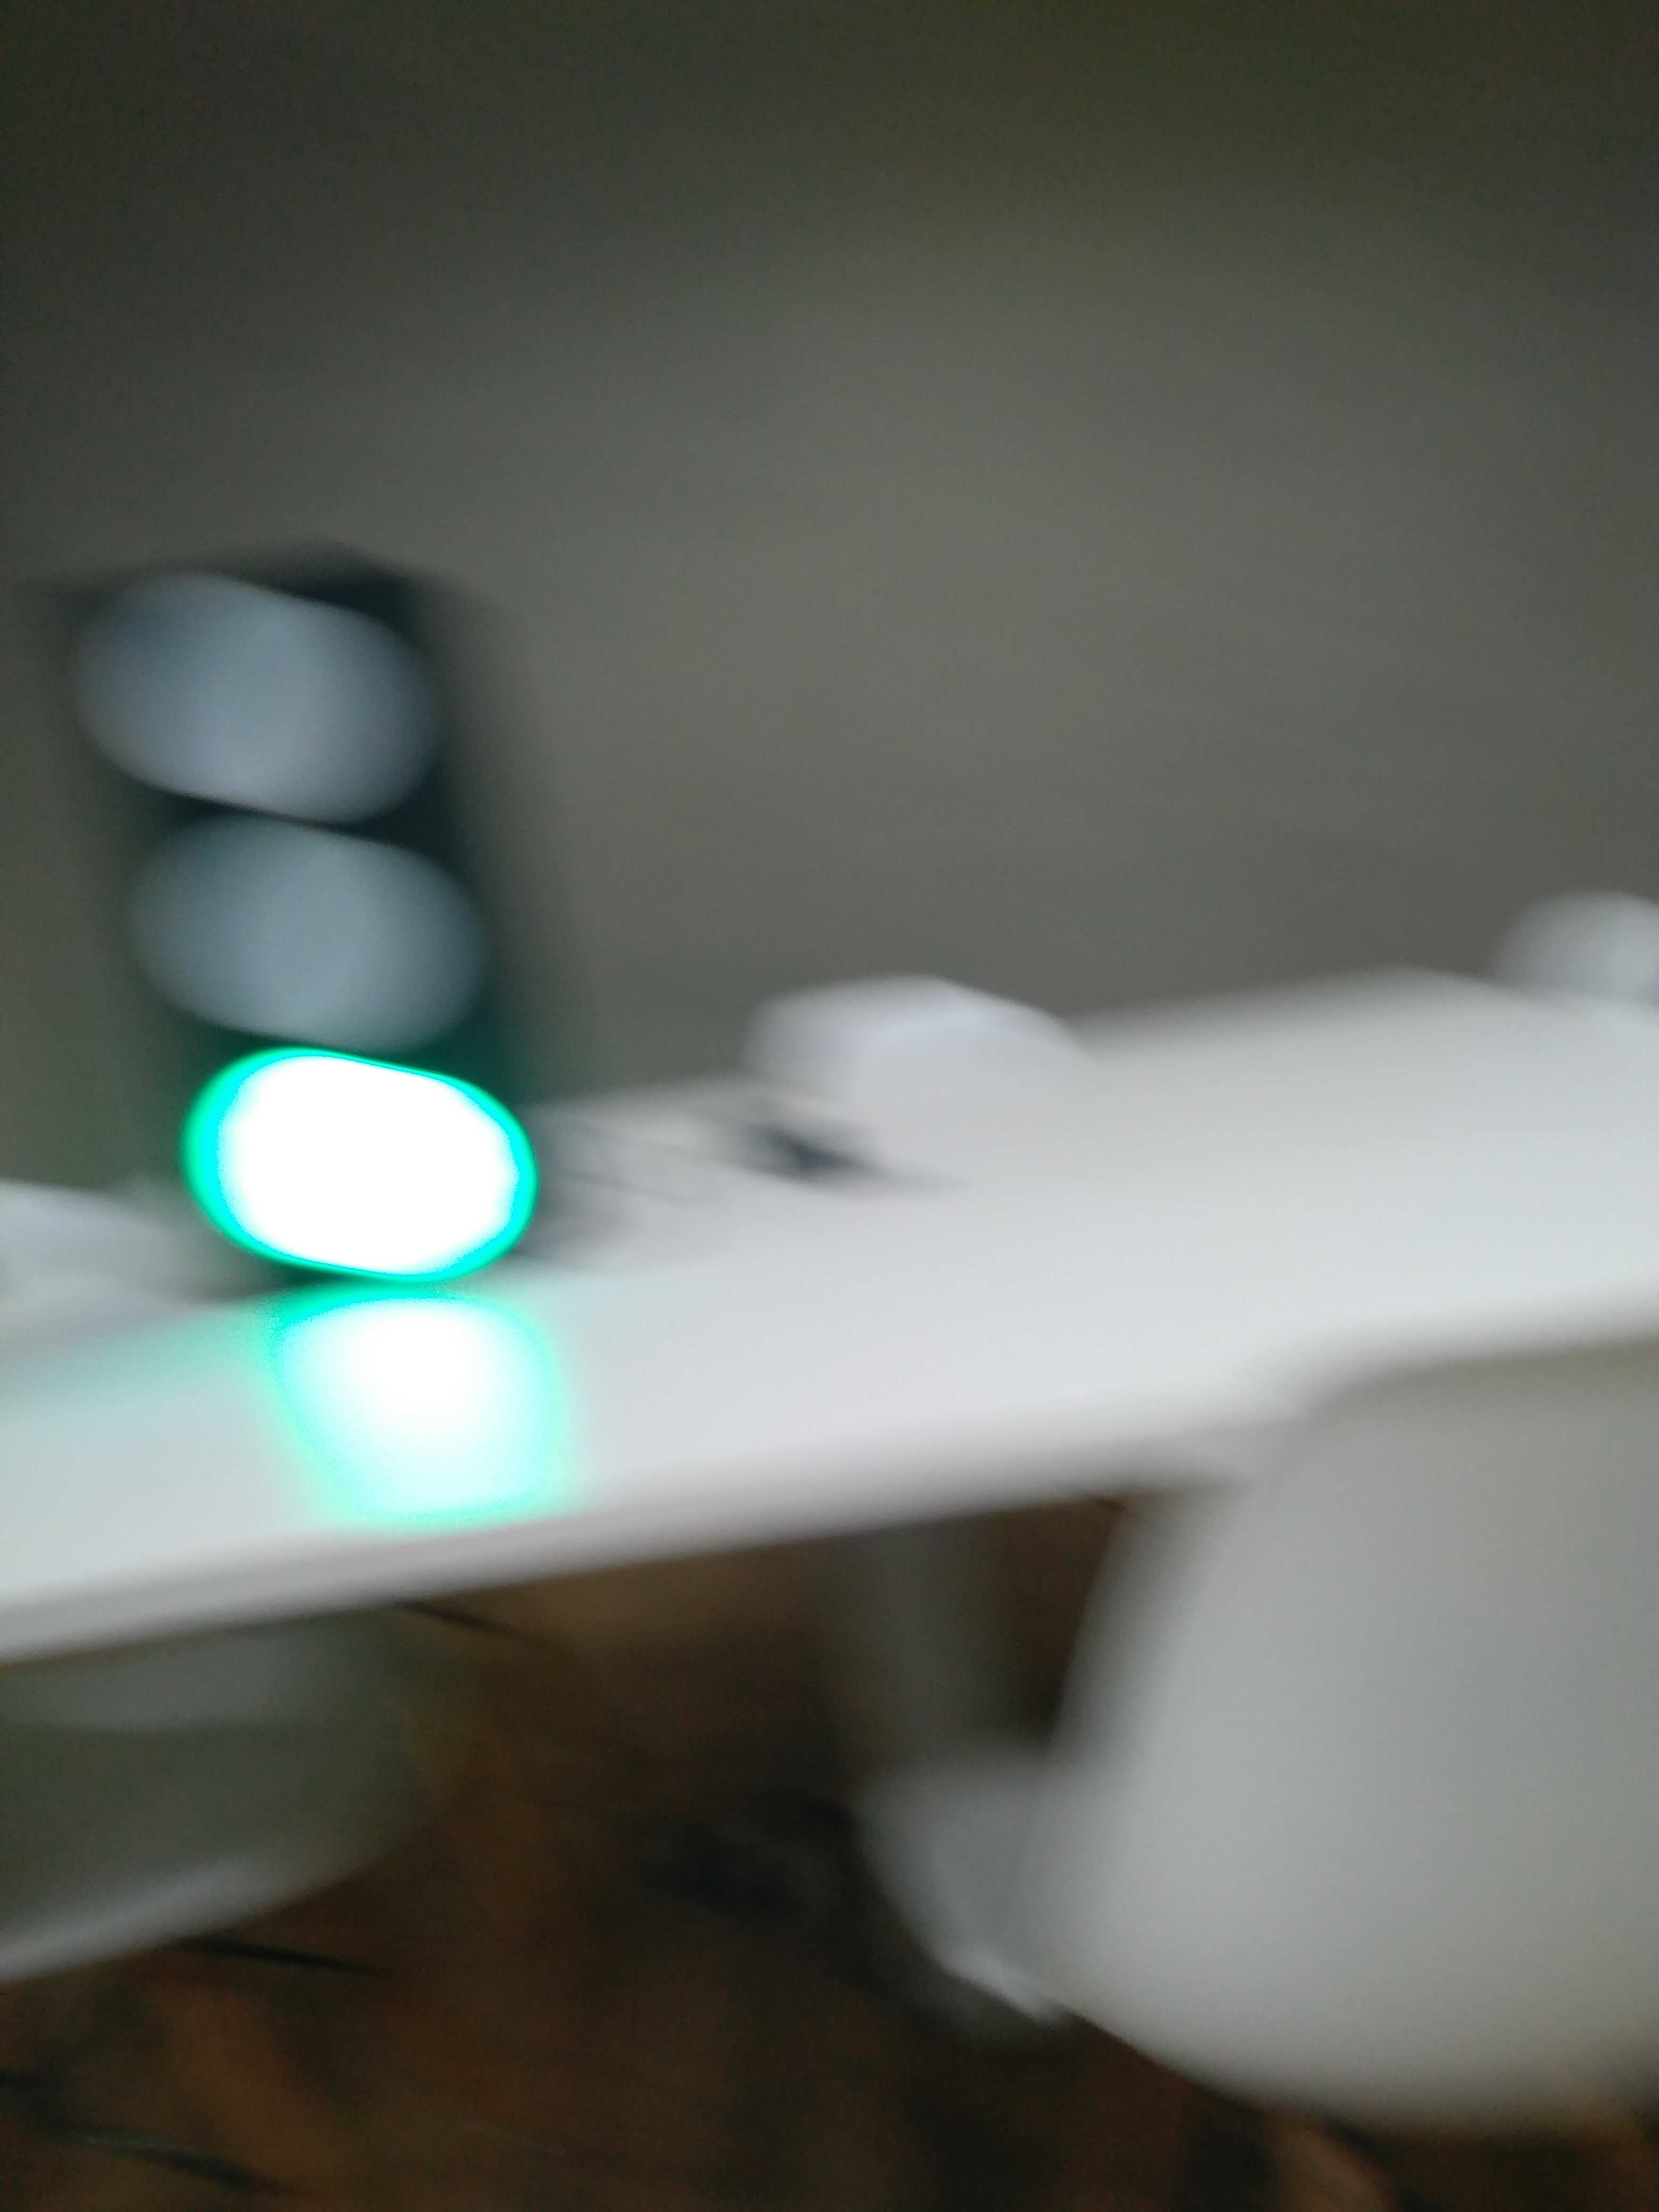go: (31, 531, 586, 1312)
